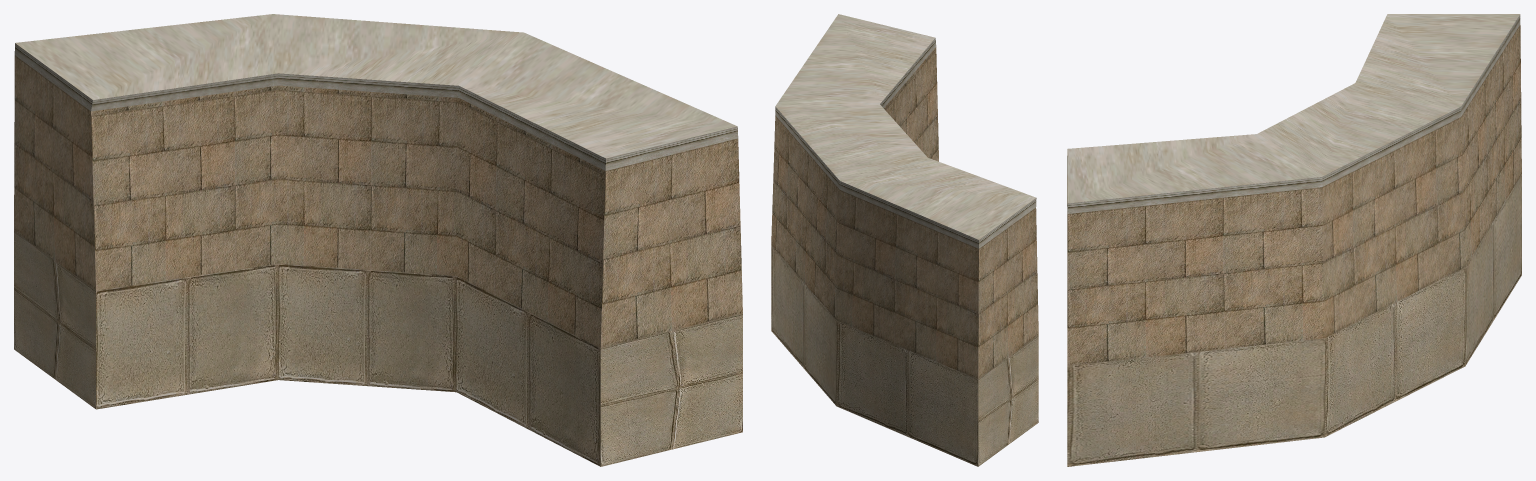
Rendered from thm_nboo_imprv_tall_curved_wall_small_s01_l2.fbx.
3 renders of one model, left to right at view 1: azimuth 30°, elevation 25°; view 2: azimuth 150°, elevation 25°; view 3: azimuth 270°, elevation 25°, orthographic. The views are drawn at different scales.
Visible parts, largest first — view 1: mesh_node; view 2: mesh_node; view 3: mesh_node.
Boxes of the visible parts, x1=… form: mesh_node: x1=14, y1=14, x2=742, y2=466; mesh_node: x1=771, y1=14, x2=1038, y2=466; mesh_node: x1=1067, y1=14, x2=1521, y2=466.
Bounding box in the file's own units: 4.73 × 3 × 4.73.
